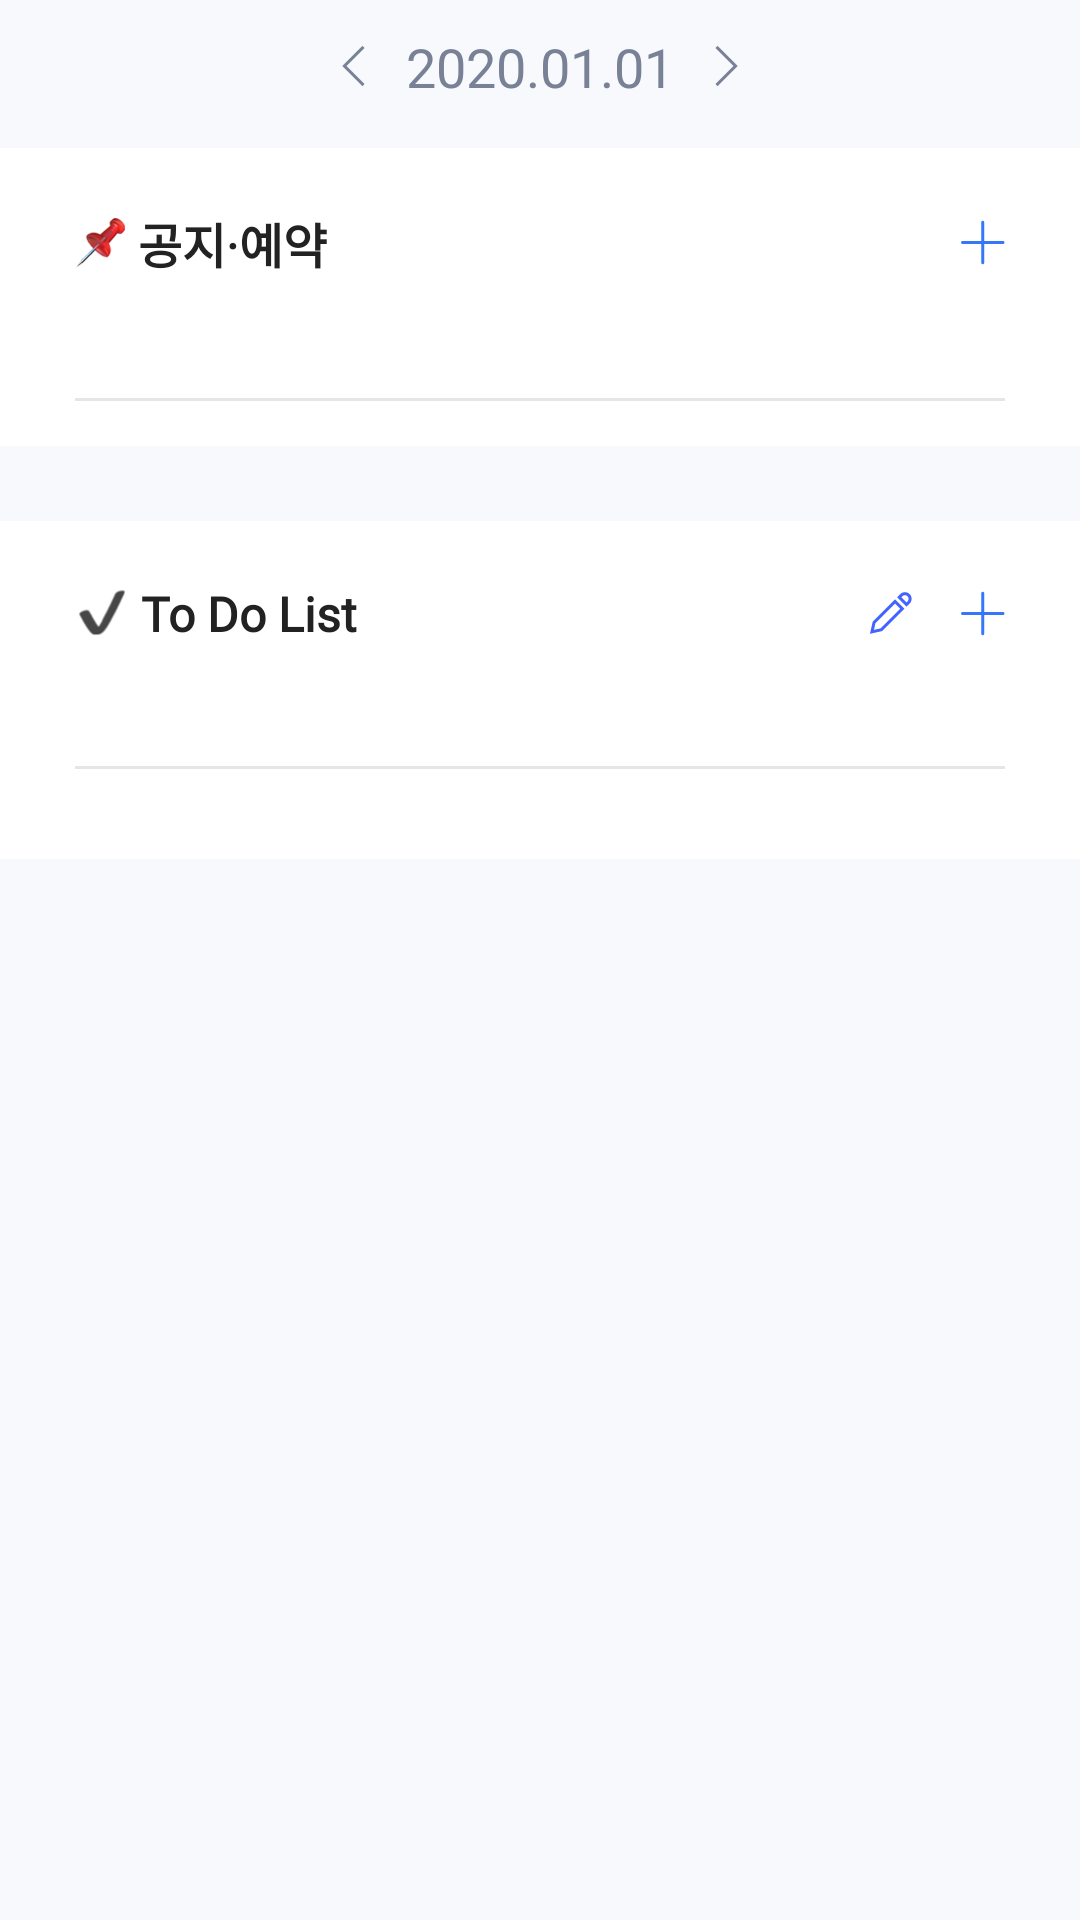

Point at icon controls on the screen. Image size 1080px×1920px, points as (x=x, y=y).
notification plus: (x=983, y=242), (x=983, y=613)
pen: (x=891, y=613)
schedule arrow back: (x=353, y=66)
schedule arrow forward: (x=727, y=66)
